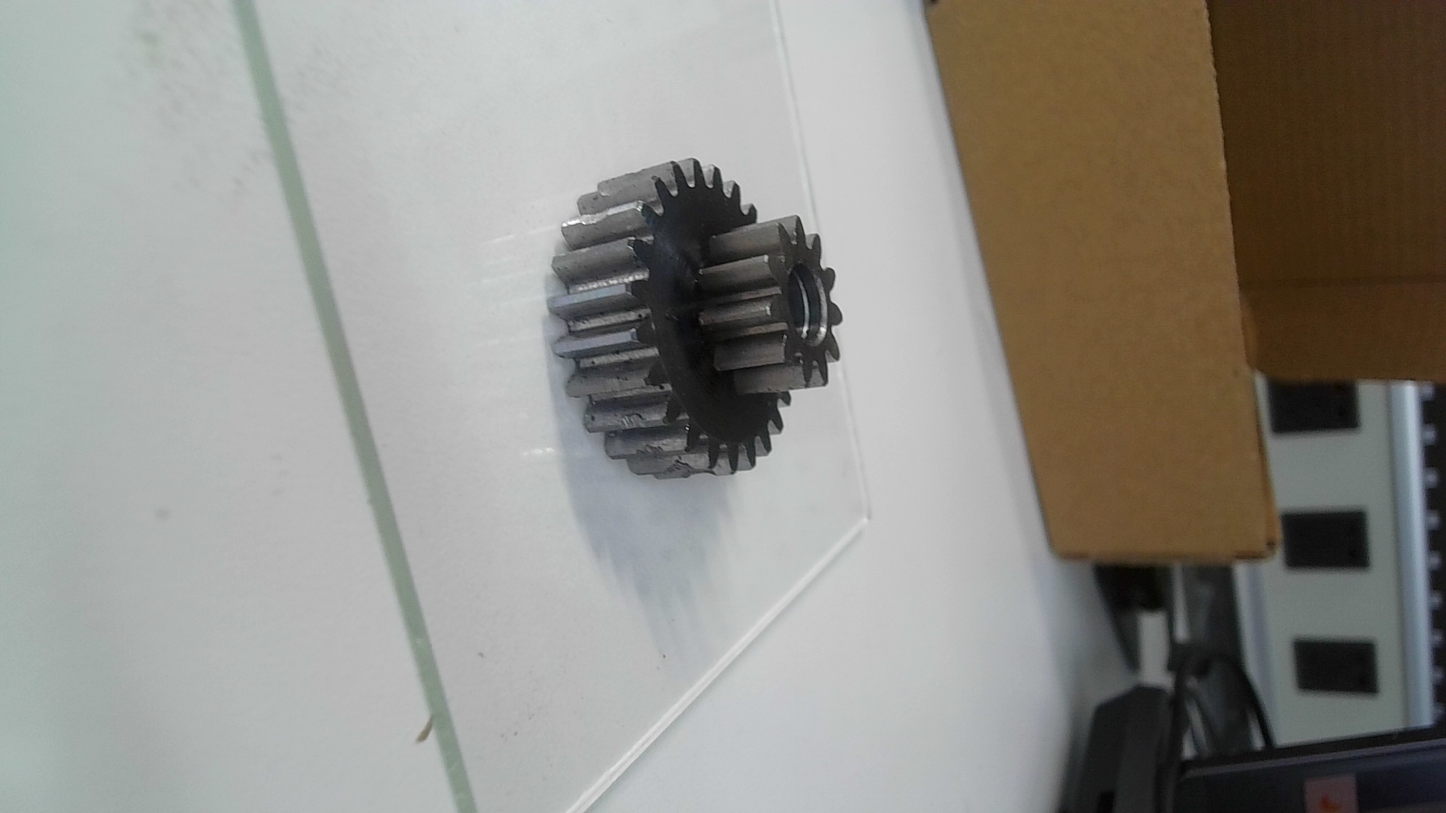gear: (541, 152, 850, 488)
